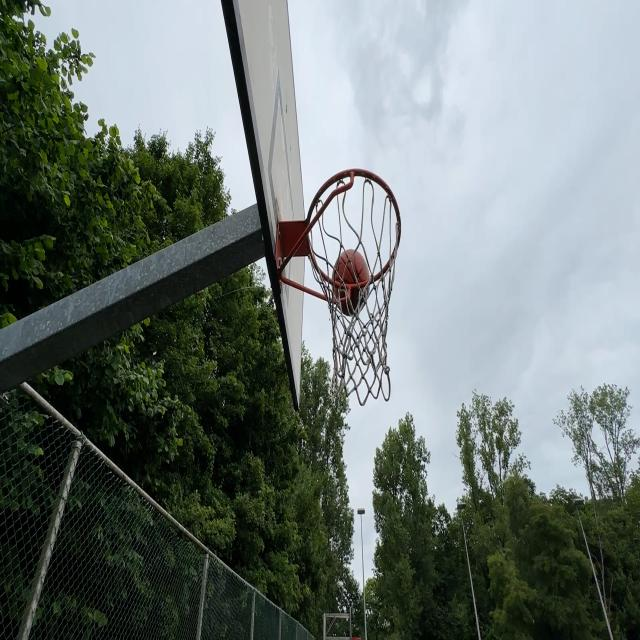Basketball: (332, 251, 369, 312)
